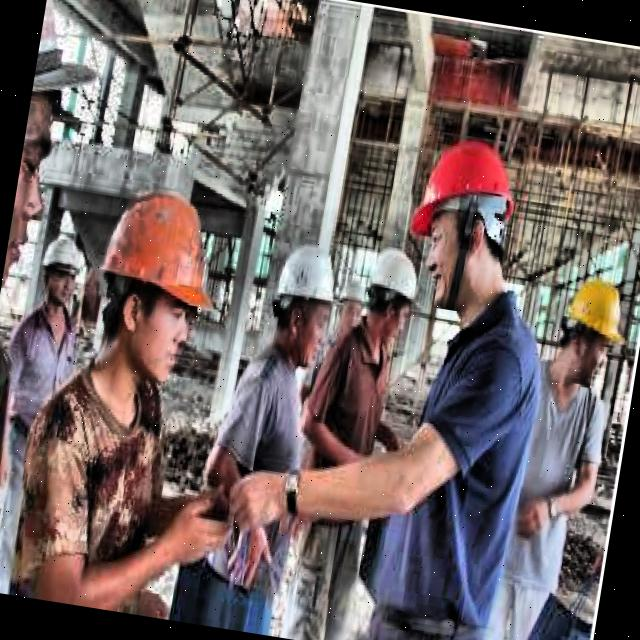helmet: (92, 180, 223, 382), (405, 128, 530, 321), (259, 230, 347, 368), (546, 272, 628, 393), (358, 245, 424, 352), (35, 228, 89, 316), (332, 272, 372, 350)
